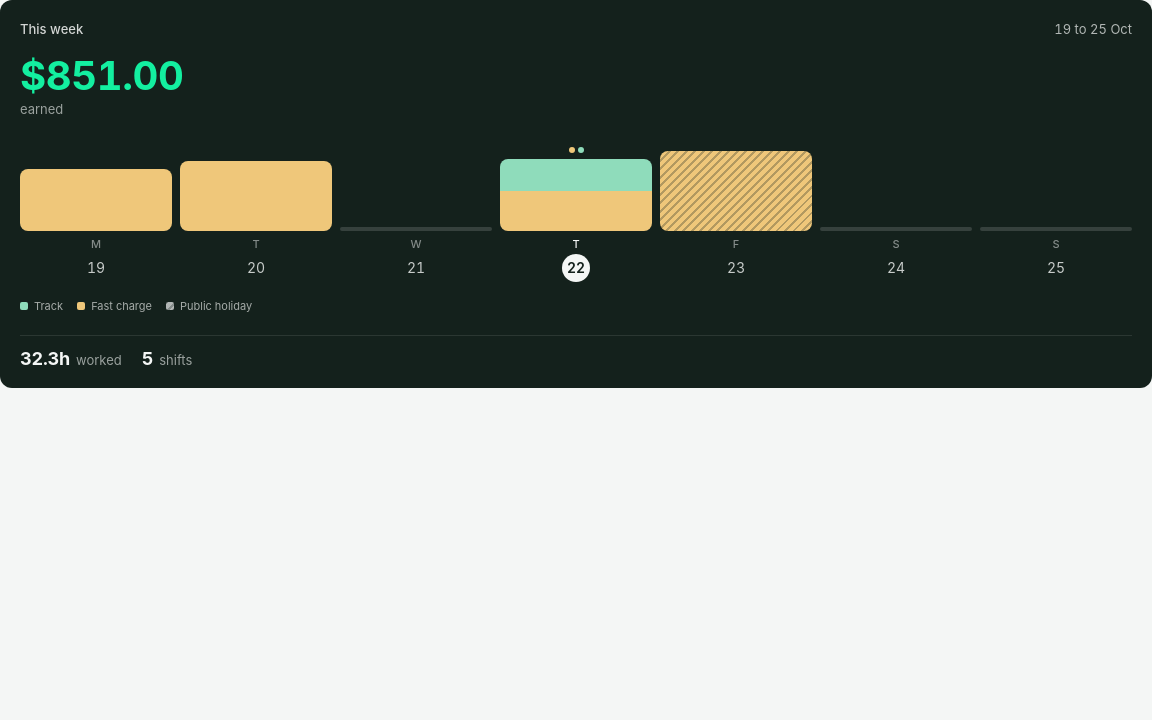
Test: WeekSummary › tapping a day names its shifts, two jobs apart
This screenshot has width=1152, height=720.
Check: the list item "Fast charge" is shown, box [77, 298, 152, 314]
Check: the list item "Track" is shown, box [20, 298, 63, 314]
Click the button "T 22" at [576, 210], box [500, 139, 652, 282]
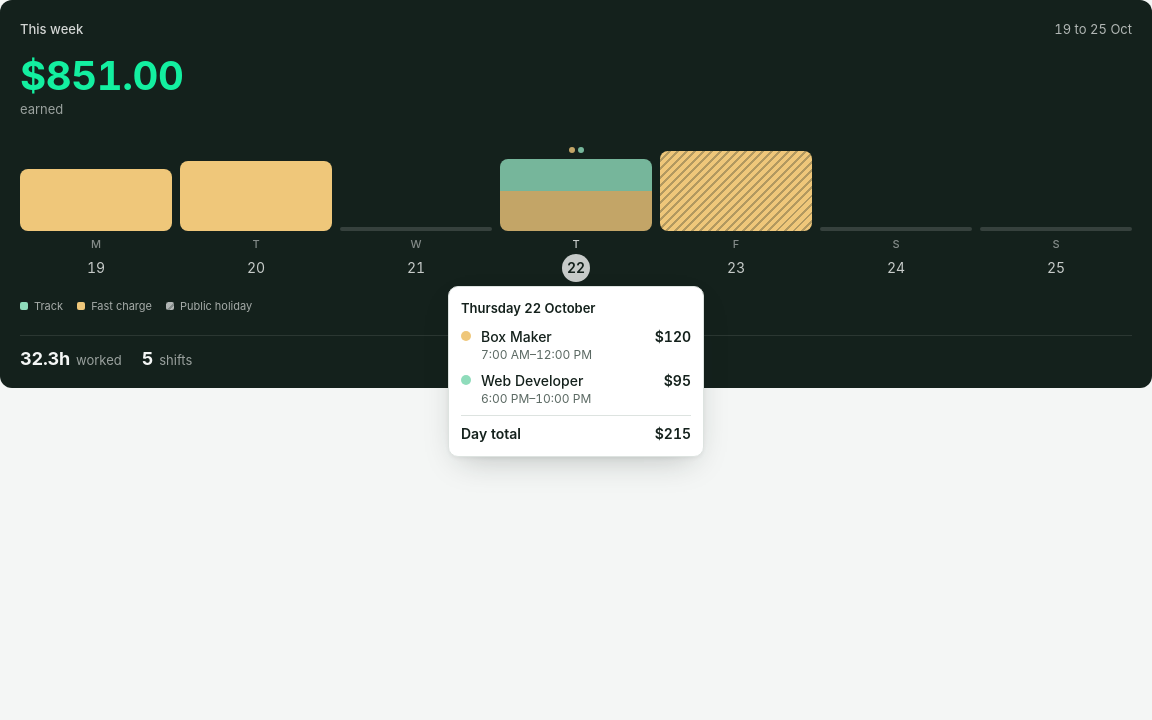
Check: the text "Thursday 22 October" is shown, box [461, 300, 596, 316]
Check: the list items read "Box Maker7:00 AM–12:00 PM$120", "Web Developer6:00 PM–10:00 PM$95", in this order, box [461, 326, 691, 362]; [461, 370, 691, 406]
Check: the text "Day total" is shown, box [461, 424, 521, 444]
